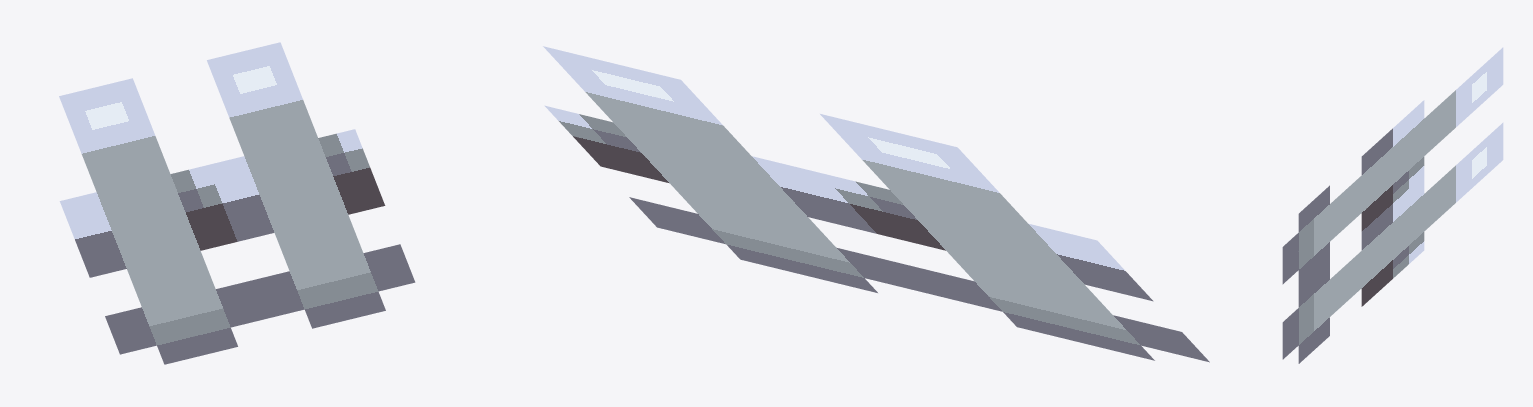
3 views of the same model, side by side, from view 1: azimuth 30°, elevation 25°; view 2: azimuth 150°, elevation 25°; view 3: azimuth 270°, elevation 25° (orthographic). The views are drawn at different scales.
Bounding box in the file's own units: 1 × 0.707 × 0.707.
1 material, 1 textured.
